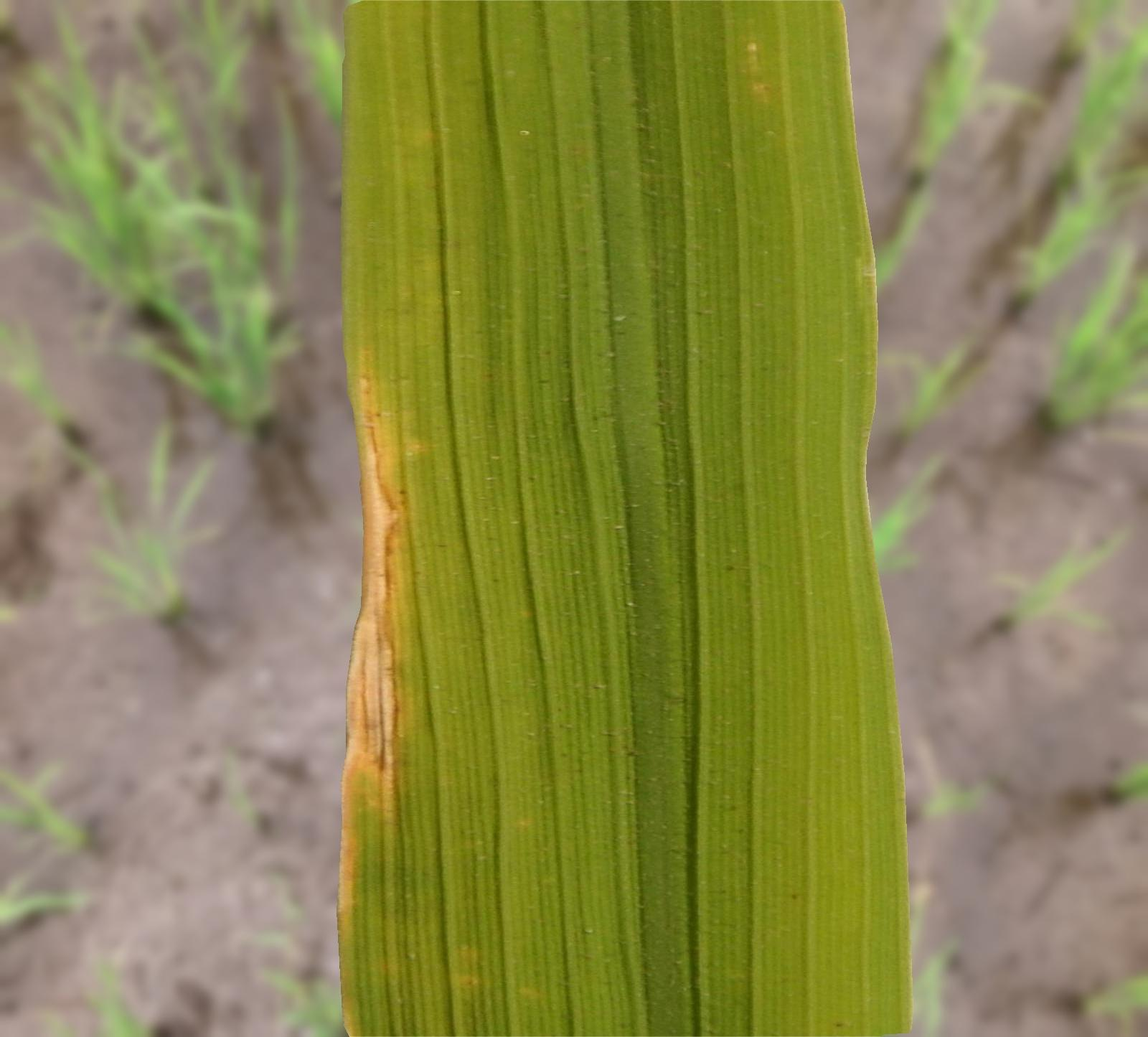BLS: (337, 350, 432, 914)
LEAF: (337, 0, 913, 1036)
